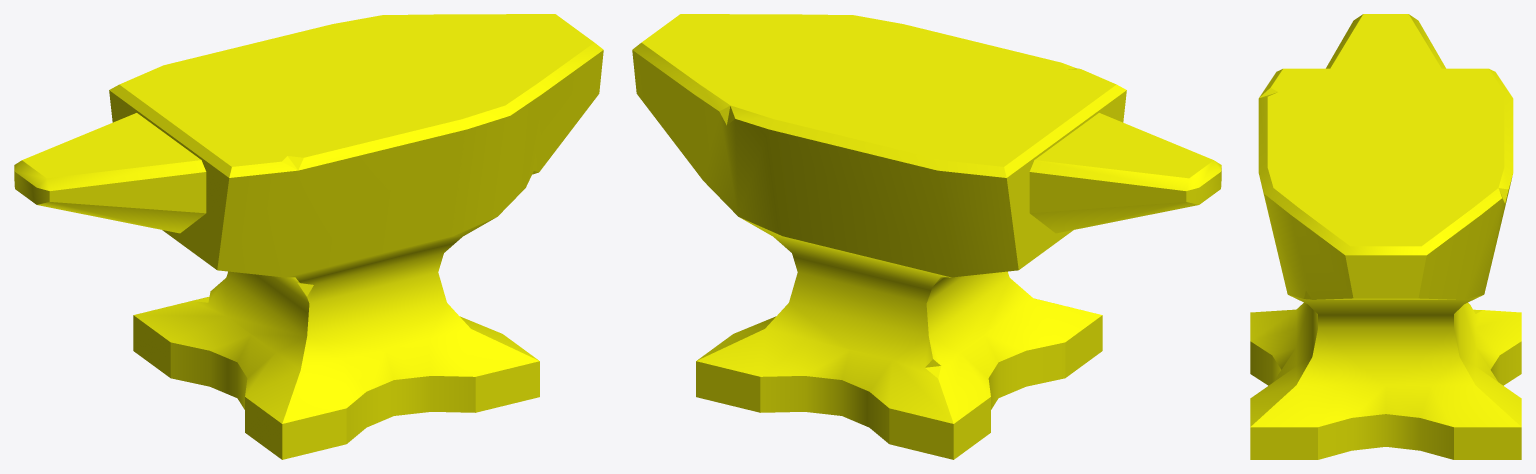
File: kaykit-anvil.glb
The picture shows the model from 3 angles, left to right: view 1: azimuth 30°, elevation 25°; view 2: azimuth 150°, elevation 25°; view 3: azimuth 270°, elevation 25°; orthographic projection. The views are drawn at different scales.
Parts seen in each view (by area): view 1: anvil; view 2: anvil; view 3: anvil.
Part boxes in pixels (<box>): anvil: <box>14,14,603,459</box>; anvil: <box>632,14,1221,459</box>; anvil: <box>1250,14,1521,459</box>.
Size of the model in its own units: 1.62 by 0.8 by 0.75.
